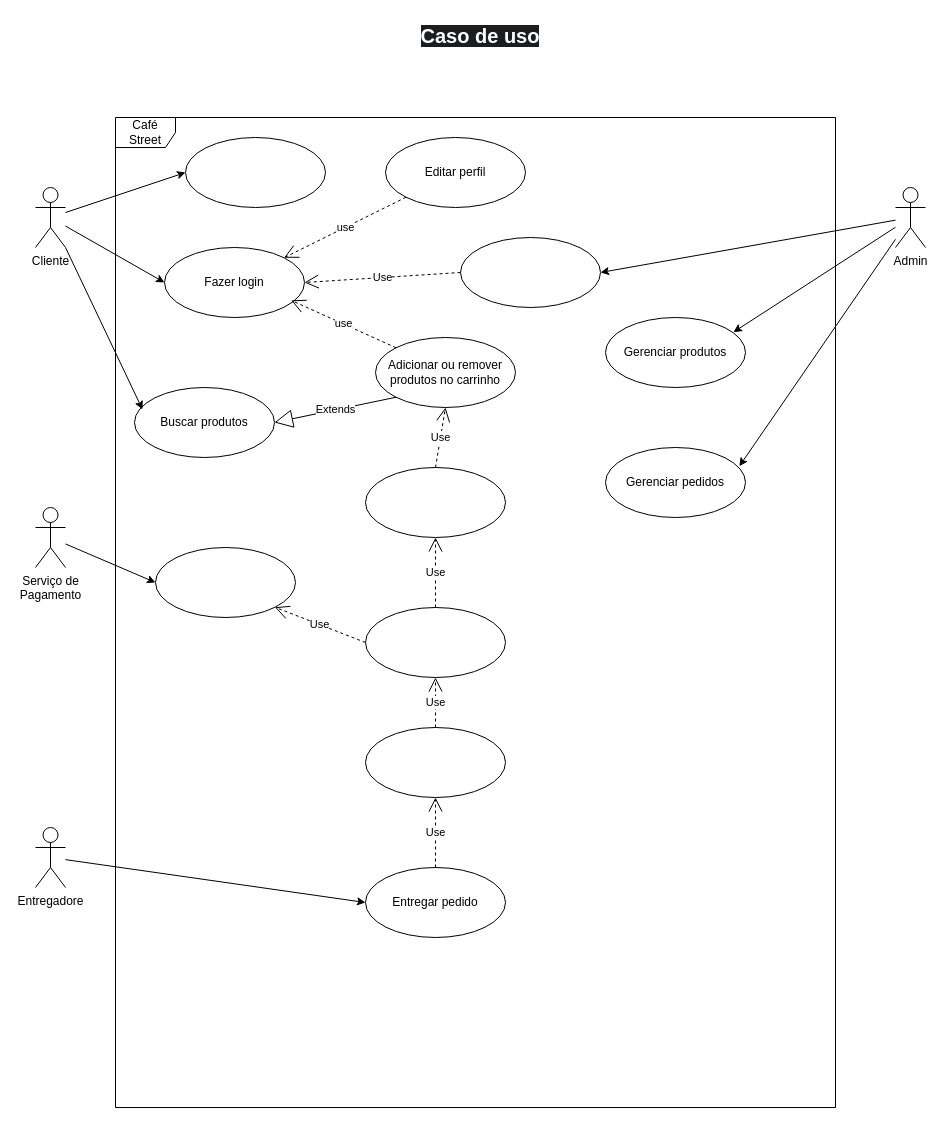
This 944x1125 diagram has some shape labels left out. Each missing label, with the centre of its shape:
"Criar pagamento" goes at pixel 225 582.
"Criar pedido" goes at pixel 435 502.
"Fazer pagamento" goes at pixel 435 642.
"Finalizar pedido" goes at pixel 435 762.
"Registrar cliente" goes at pixel 255 172.
"Ver pedidos" goes at pixel 530 272.
